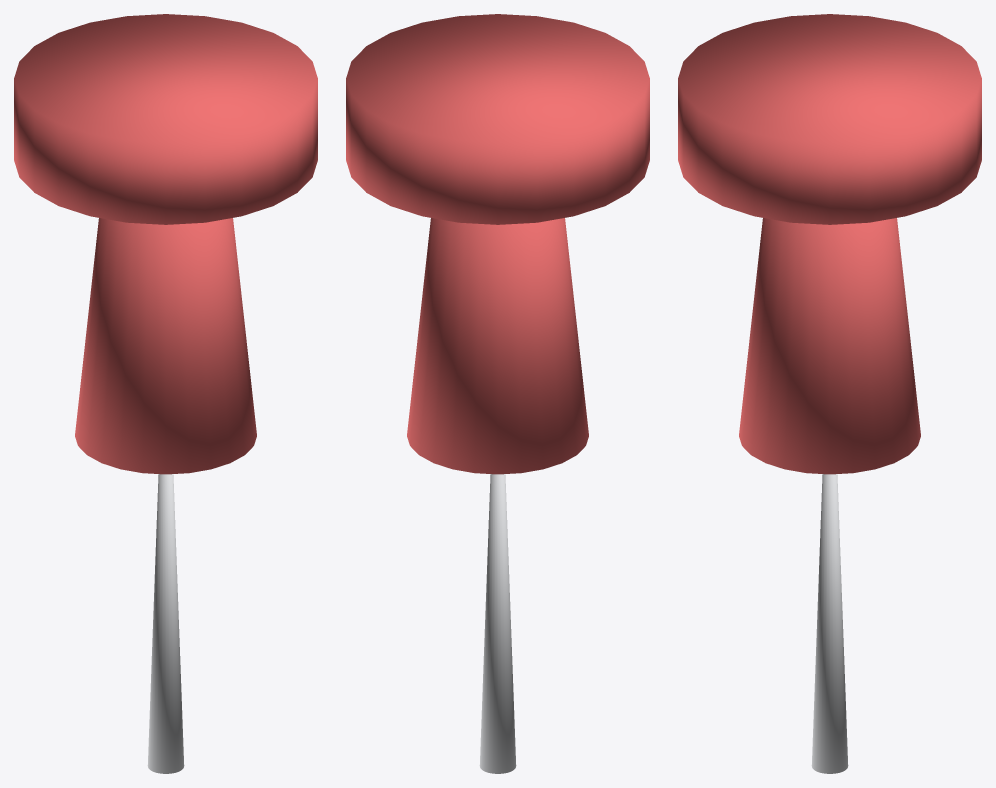
Rendered from push_pin.glb.
The picture shows the model from 3 angles, left to right: view 1: azimuth 30°, elevation 25°; view 2: azimuth 150°, elevation 25°; view 3: azimuth 270°, elevation 25°; orthographic projection.
Visible parts, largest first — view 1: pin_head, pin_grip, pin_shaft; view 2: pin_head, pin_grip, pin_shaft; view 3: pin_head, pin_grip, pin_shaft.
Part boxes in pixels (x1,y1,x2,y2): pin_head: (14, 14, 317, 224); pin_grip: (75, 218, 256, 474); pin_shaft: (147, 474, 184, 773); pin_head: (346, 14, 649, 224); pin_grip: (407, 218, 588, 474); pin_shaft: (479, 474, 516, 773); pin_head: (678, 14, 981, 224); pin_grip: (739, 218, 920, 474); pin_shaft: (811, 474, 848, 773).
Size of the model in its own units: 0.01 by 0.025 by 0.01.
